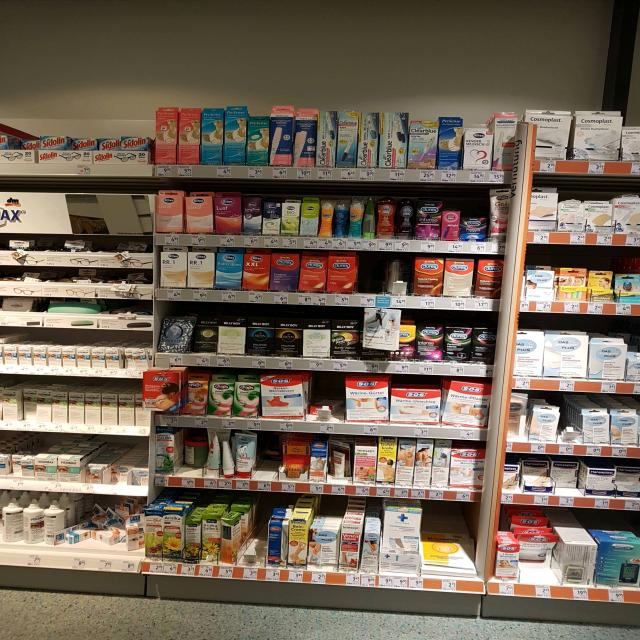empty: (360, 251, 385, 290), (257, 432, 278, 475)
